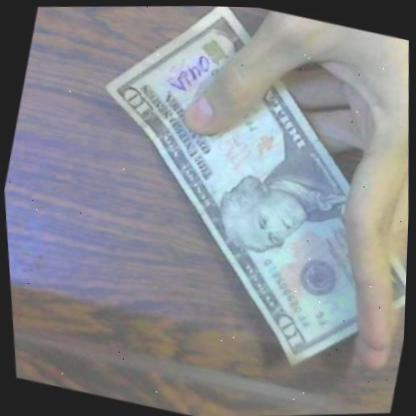ten-front: (30, 1, 416, 396)
